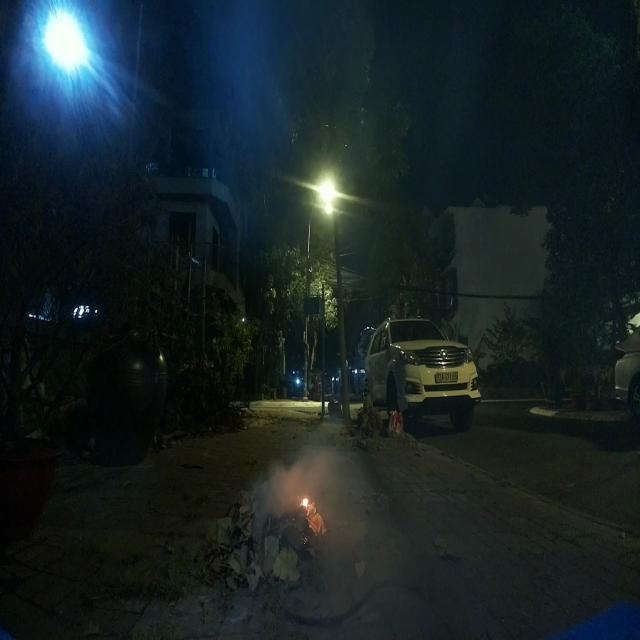Fire: (300, 492, 312, 512)
Smoke: (254, 445, 364, 516)
